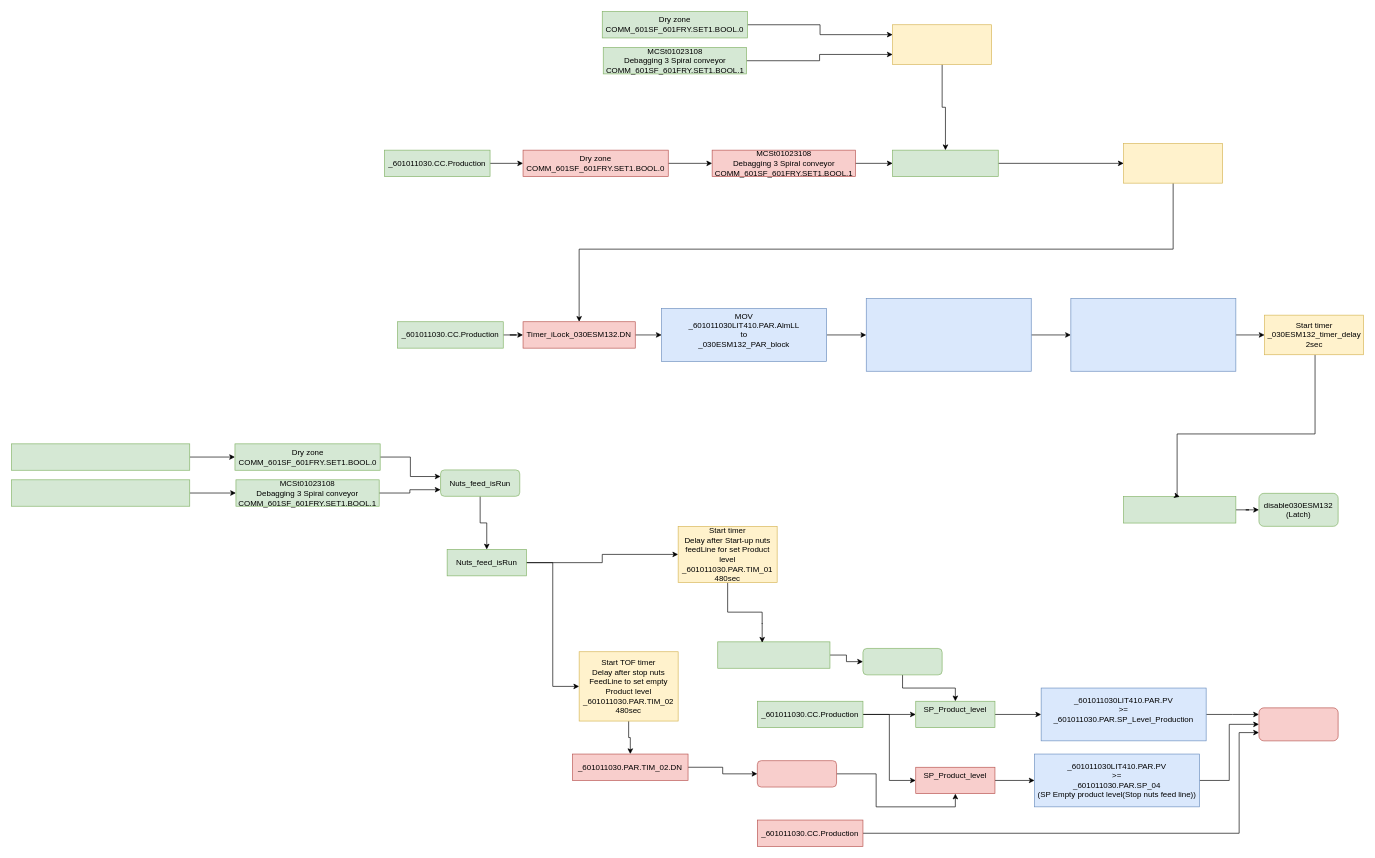
The diagram is 1375 pixels wide and 858 high, and some of its shapes have lost their labels. The shapes that lost their labels are listed below. From the top down, each one's box as (x1, y1, x2, y2) in pixels, then its label:
(892, 24, 992, 64): Start TOF timer Timer_iLock_030ESM132 480sec
(892, 149, 998, 177): TON_DRY_STOP.DN
(1123, 143, 1223, 183): Start timer Timer_iLock_030ESM132 190sec
(866, 298, 1031, 371): ADD _030ESM132_PAR_block + _030ESM132_PAR_iLock_LLIndex = _030ESM132_PAR_block
(1070, 298, 1236, 371): LES _601011030LIT410.PAR.PV < _030ESM132_PAR_block
(11, 443, 190, 470): _601011030_SFC_Production.ActiveStepBit.12
(11, 479, 190, 506): _601011030_SFC_Production.ActiveStepBit.13
(1123, 496, 1236, 523): _030ESM132_timer_delay.DN.dn
(717, 641, 830, 668): _601011030.PAR.TIM_01.DN
(862, 648, 942, 675): SP_Product_level (Latch)
(1258, 707, 1338, 741): disable030ESM132 (UnLatch)
(757, 760, 837, 787): SP_Product_level (UnLatch)
